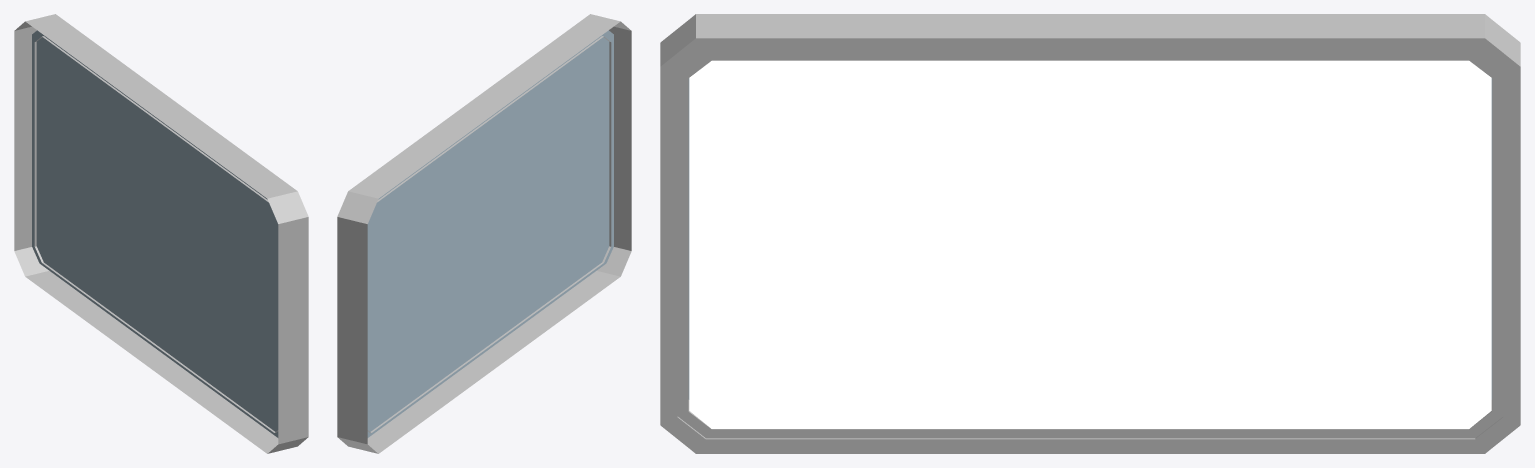
File: Window.fbx
The picture shows the model from 3 angles, left to right: view 1: azimuth 30°, elevation 25°; view 2: azimuth 150°, elevation 25°; view 3: azimuth 270°, elevation 25°; orthographic projection. The views are drawn at different scales.
Parts seen in each view (by area): view 1: Glass, Frame; view 2: Glass, Frame; view 3: Blinds, Frame, Glass.
Boxes of the visible parts, x1,y1,x2,y2 form: Glass: (32,30,278,437); Frame: (14,14,308,453); Glass: (367,30,613,437); Frame: (337,14,631,453); Blinds: (689,60,1491,428); Frame: (660,14,1520,453); Glass: (688,78,1492,399).
Bounding box in the file's own units: 20 × 160 × 300.
